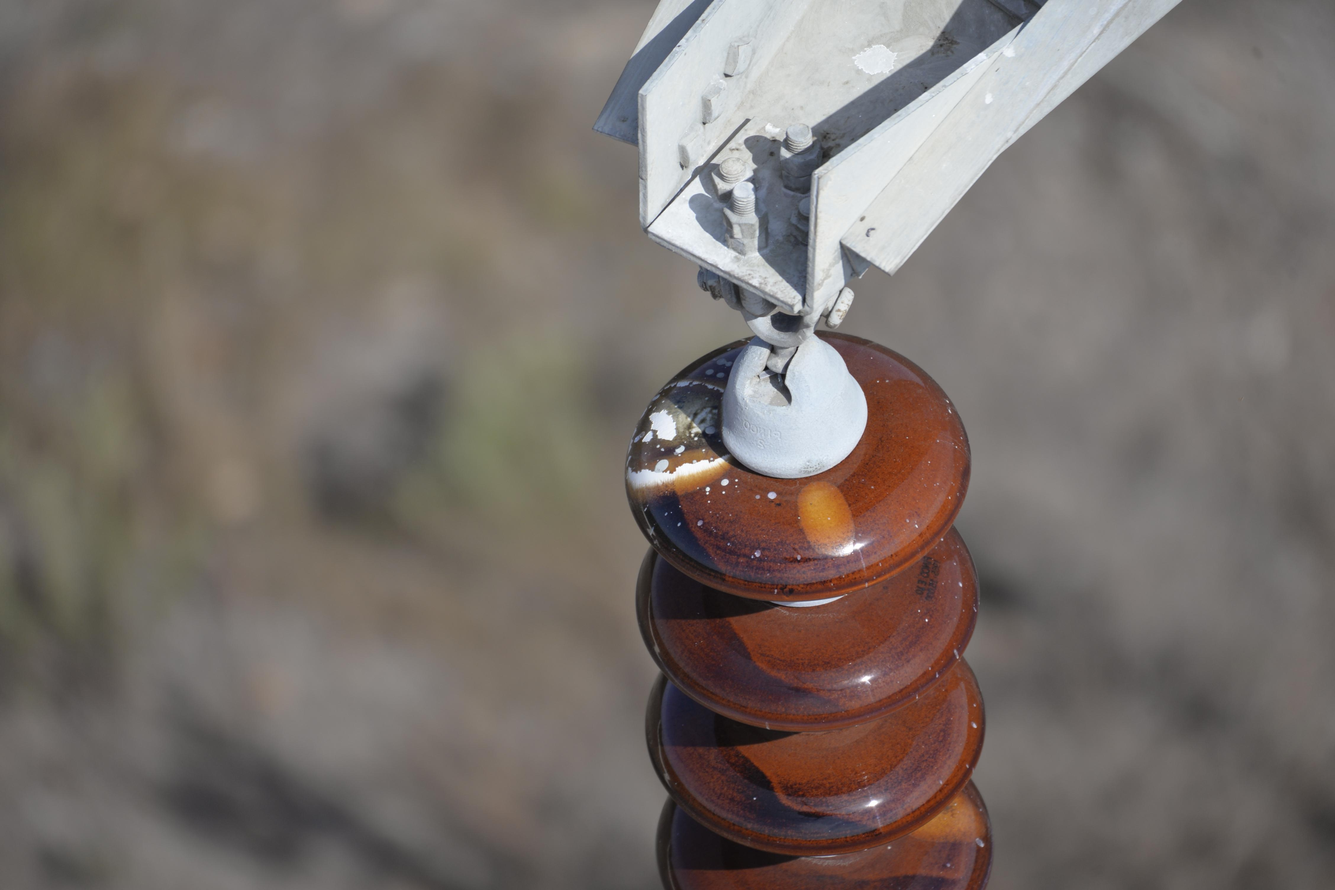Flashover: (621, 382, 739, 498), (789, 475, 857, 558), (907, 775, 986, 841)
insulator: (621, 331, 993, 890)
